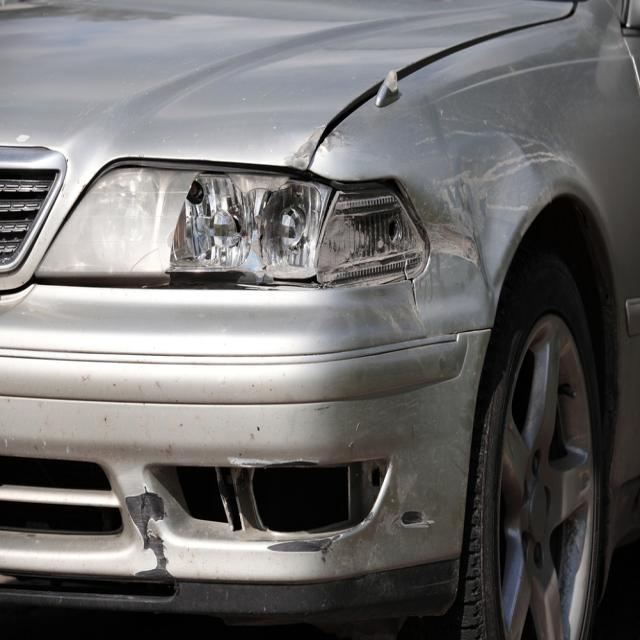dent: (412, 135, 530, 309)
lamp broken: (33, 165, 425, 287)
scratch: (123, 488, 179, 581), (262, 529, 349, 558)
